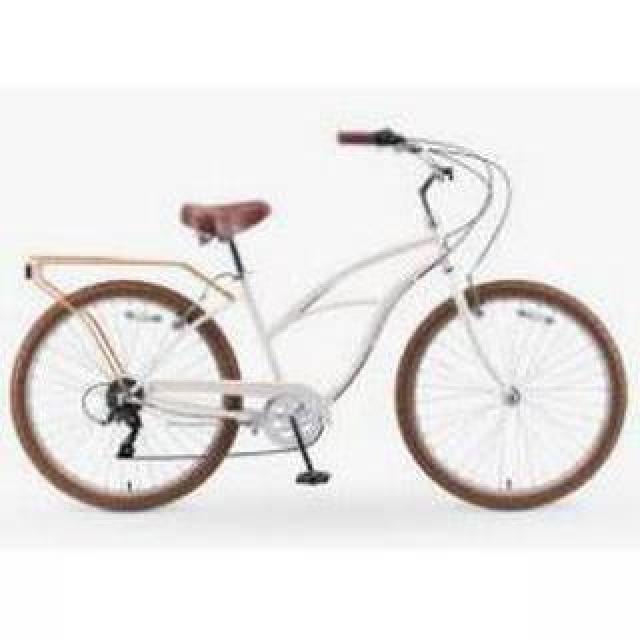Person: (5, 125, 635, 515)
